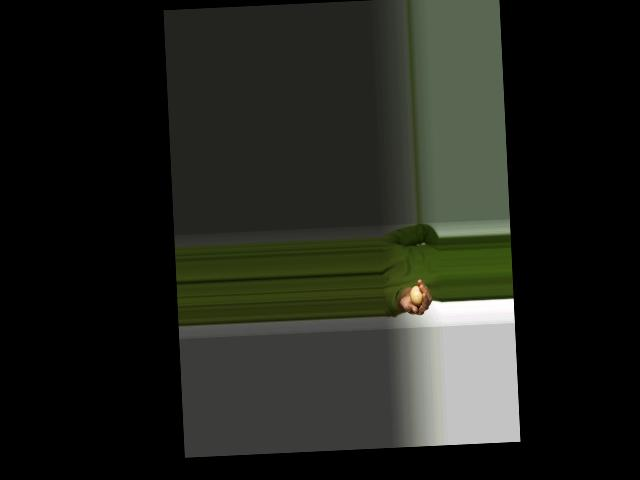egg: (410, 285, 423, 306)
